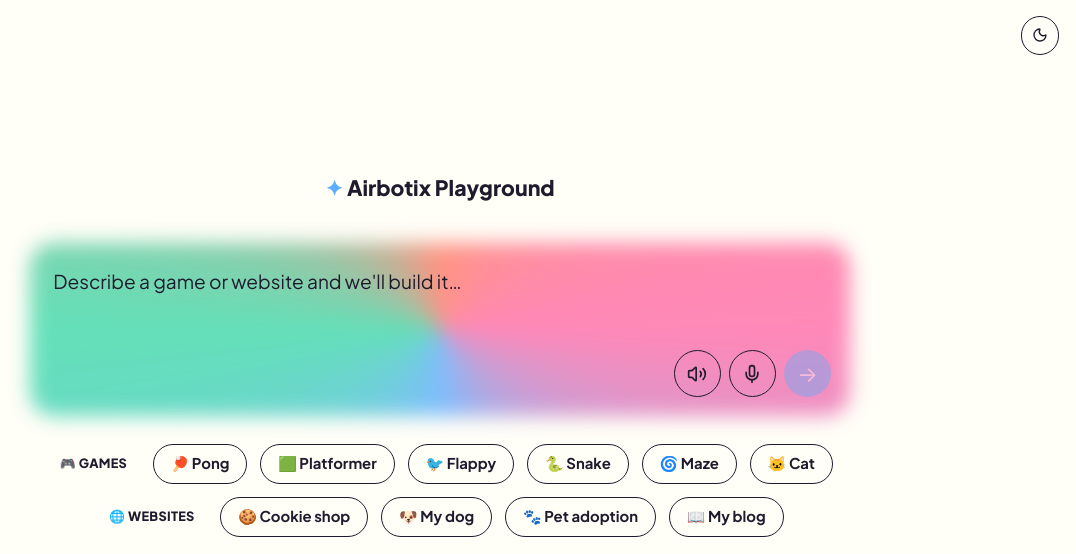
LandingScreen starter chip groups › a website chip on the generic landing prefills a website-worded prompt (D-WEB-11 keeps routing)
This screenshot has width=1076, height=554.
Click the button "🍪 Cookie shop": (294, 517) [220, 497, 368, 537]
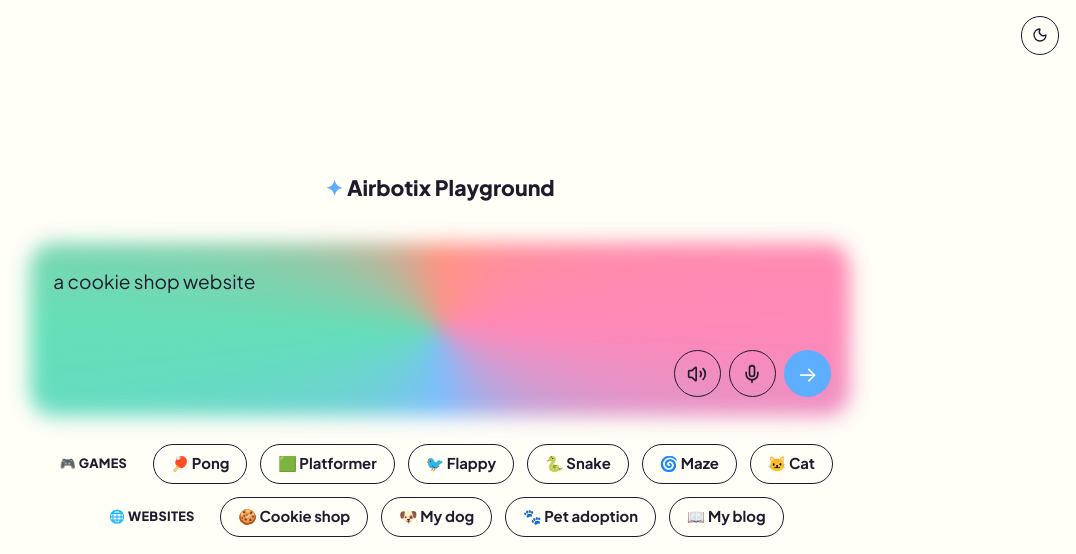
Result: the text box named "Describe a game or website" holds "a cookie shop website" at [53, 267, 827, 386]
